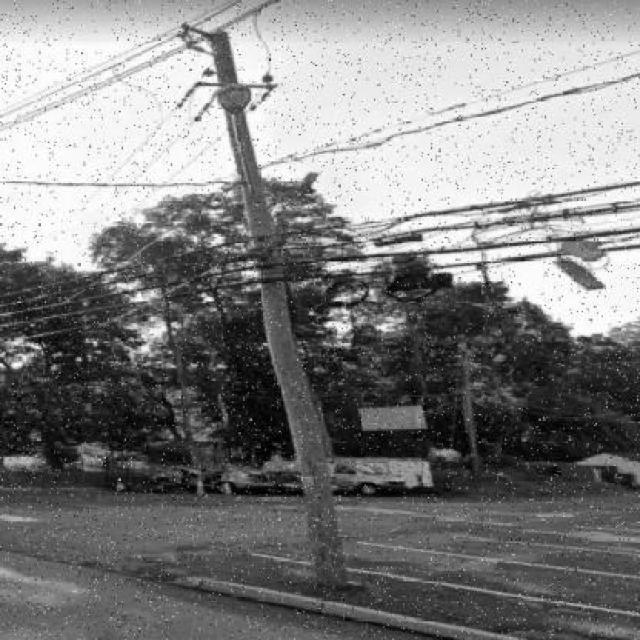pole: (120, 19, 448, 598)
